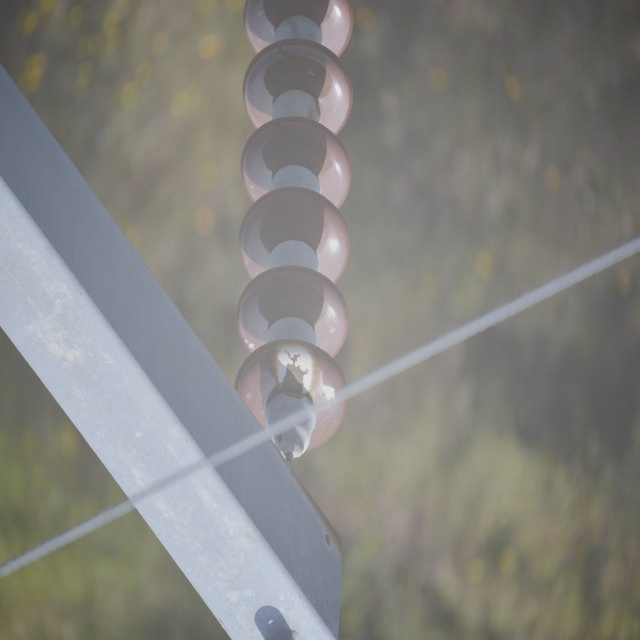insulator: (234, 0, 354, 446)
